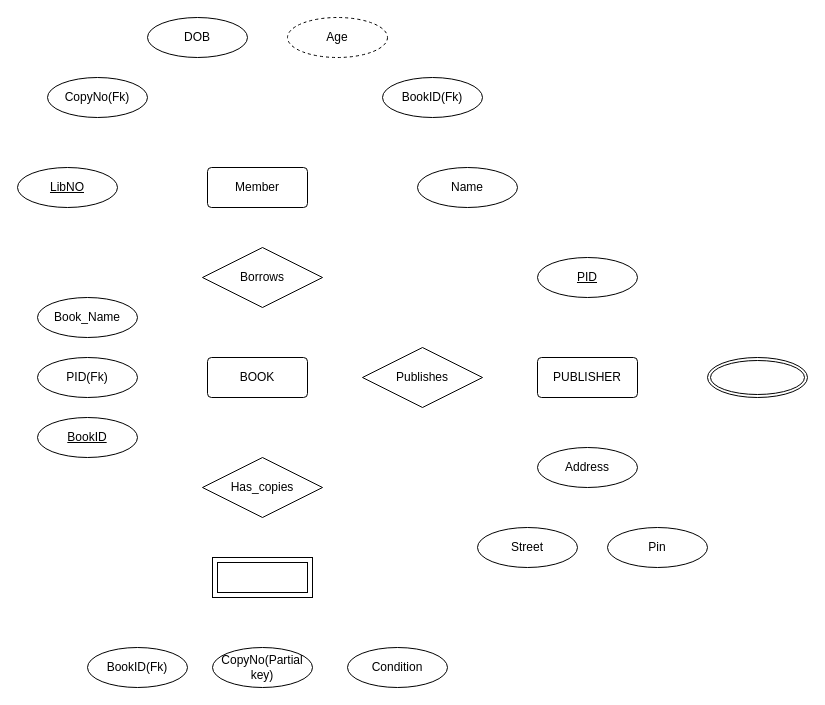
The diagram is 825 pixels wide and 705 high, and some of its shapes have lost their labels. Each missing label, with the centre of its shape:
"Contact" belongs at pixel 757 377.
"COPY" belongs at pixel 262 577.
